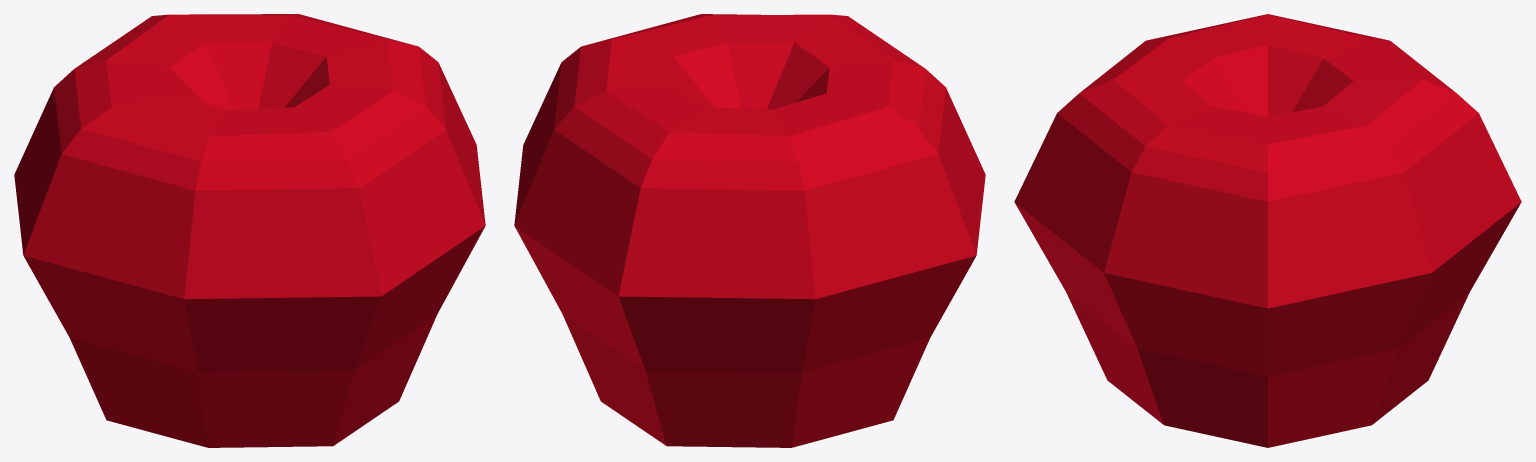
Rendered from crystal_apple.fbx.
The picture shows the model from 3 angles, left to right: view 1: azimuth 30°, elevation 25°; view 2: azimuth 150°, elevation 25°; view 3: azimuth 270°, elevation 25°; orthographic projection. The views are drawn at different scales.
Visible parts, largest first — view 1: Cube; view 2: Cube; view 3: Cube.
Boxes of the visible parts, box(x1,y1,x2,y2) form: Cube: box(14, 14, 485, 447); Cube: box(514, 14, 985, 447); Cube: box(1014, 14, 1521, 447).
Bounding box in the file's own units: 22.9 × 15.06 × 23.01.
